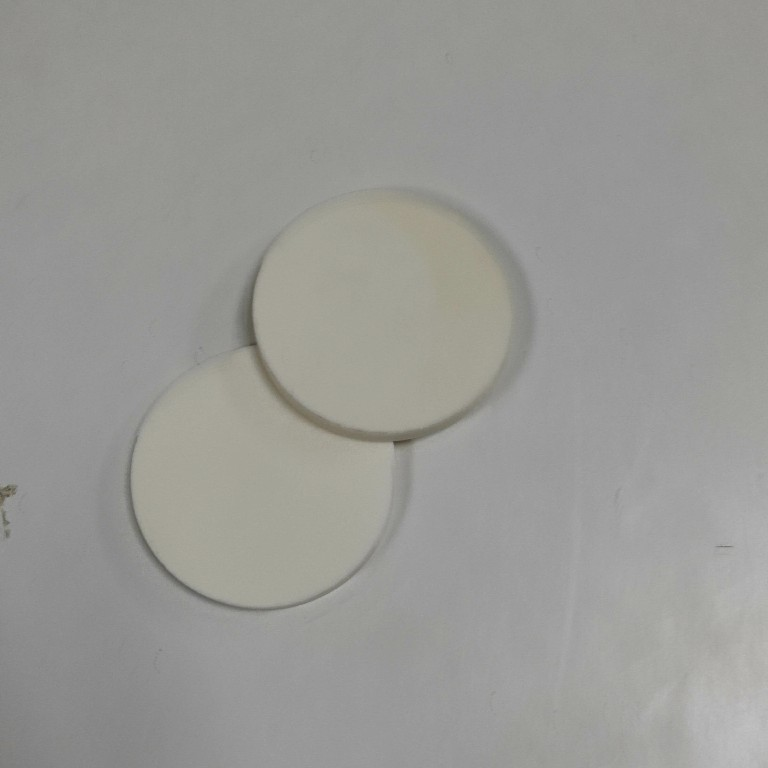ceramics: (122, 339, 406, 615), (247, 187, 526, 442)
